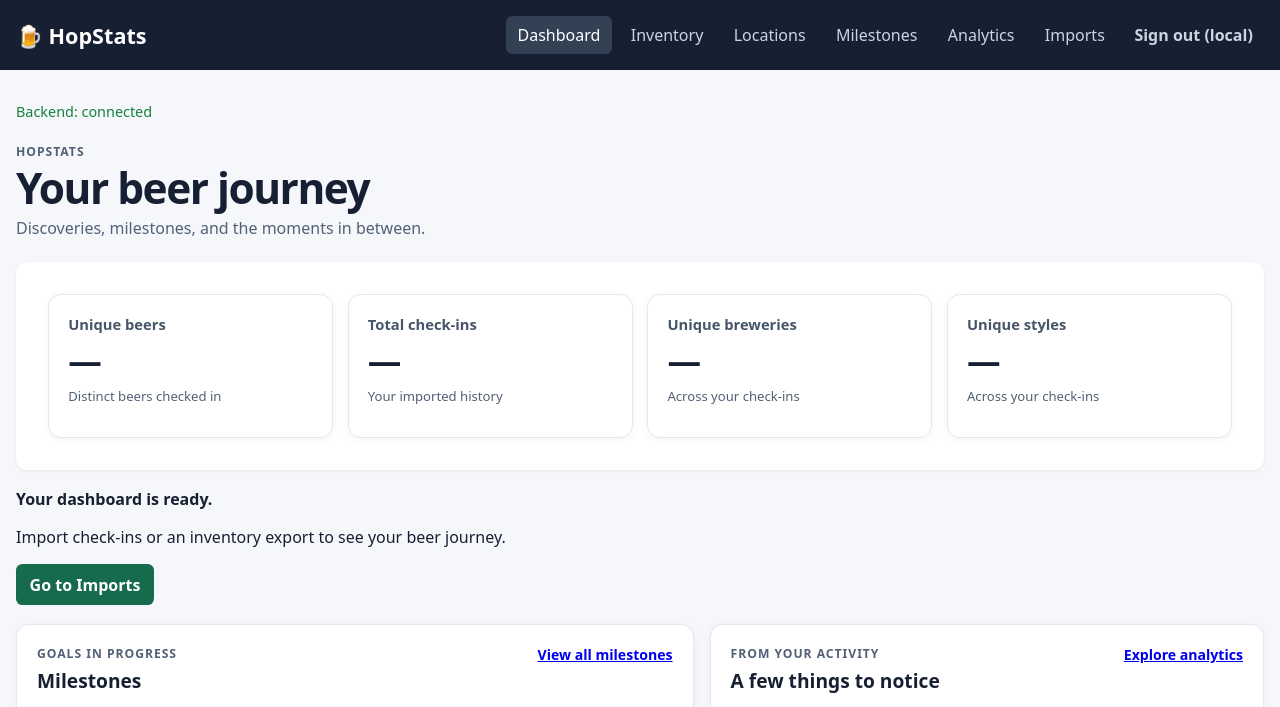
Test case: keeps the authenticated UI when logout fails and allows retry
Click the button "Sign out (local)" at x=1194, y=35, box [1123,16,1264,54]
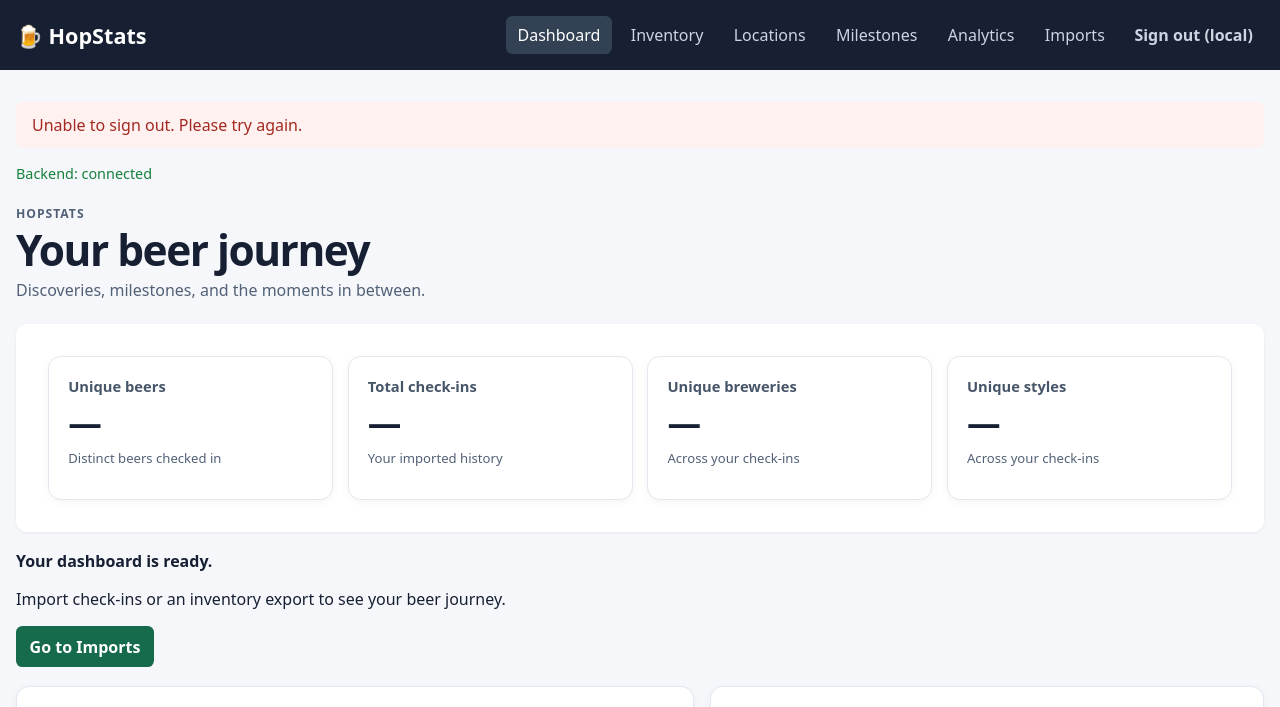
expect the message "Unable to sign out. Please try again." is shown: met, box [16,102,1264,148]
